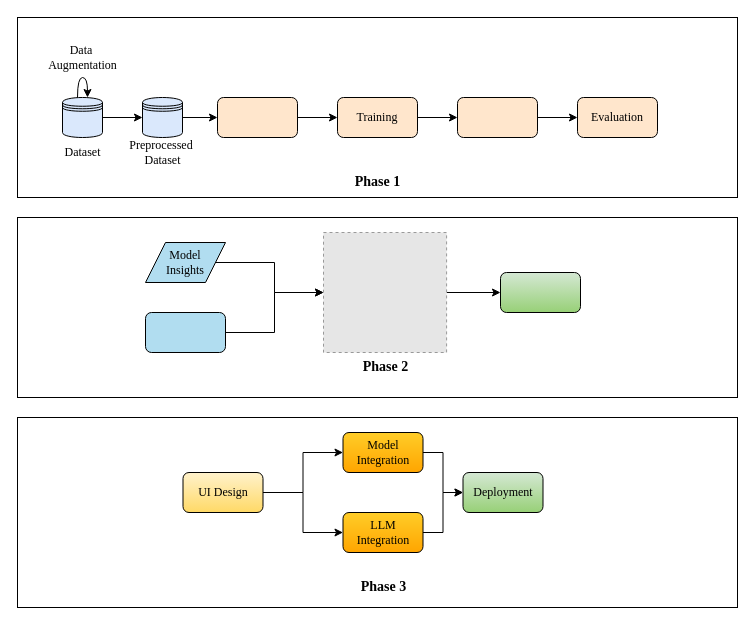
The diagram is 755 pixels wide and 625 high, and some of its shapes have lost their labels. Grey dashed boxes stand in for pictures. The shapes that lost their labels are listed below. From the top down, each one's box as (x1, y1, x2, y2) in pixels, then its label:
(216, 96, 298, 138): Feature Engineering
(456, 96, 538, 138): Testing
(500, 272, 580, 312): Diagnostic Report
(144, 312, 226, 352): Prompt
